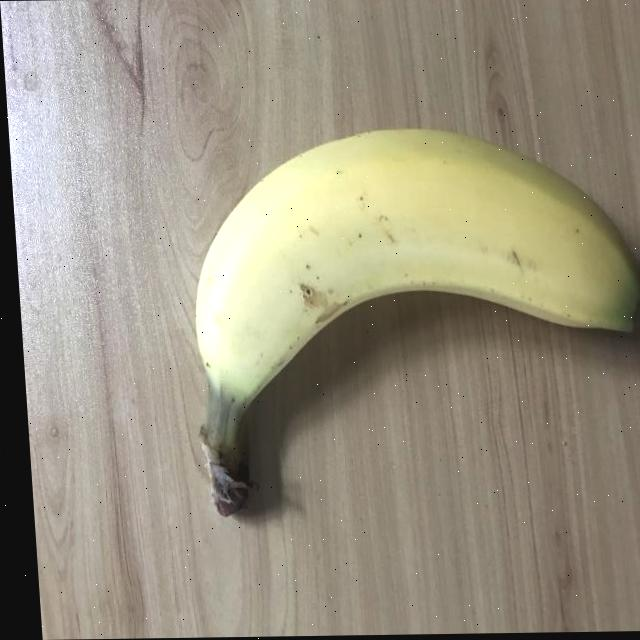banana: (171, 123, 640, 515)
